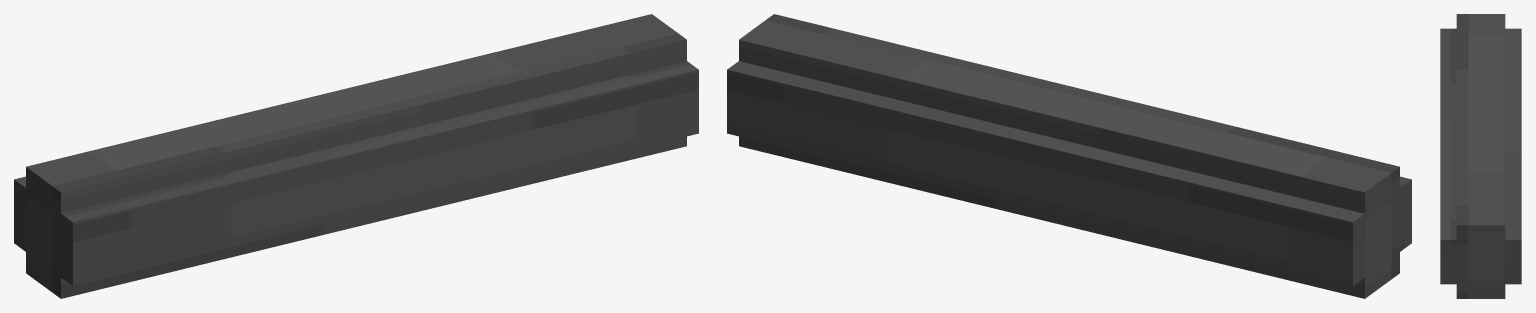
File: gearbox_right_geo.obj
The picture shows the model from 3 angles, left to right: view 1: azimuth 30°, elevation 25°; view 2: azimuth 150°, elevation 25°; view 3: azimuth 270°, elevation 25°; orthographic projection. The views are drawn at different scales.
Visible parts, largest first — view 1: gearbox_right_geo; view 2: gearbox_right_geo; view 3: gearbox_right_geo.
Part boxes in pixels (<box>): gearbox_right_geo: <box>14,14,698,298</box>; gearbox_right_geo: <box>727,14,1411,298</box>; gearbox_right_geo: <box>1440,14,1521,298</box>.
Bounding box in the file's own units: 0.5 × 0.0812 × 0.0812.
